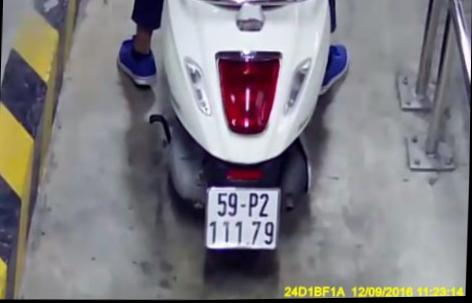LP: (201, 183, 283, 256)
